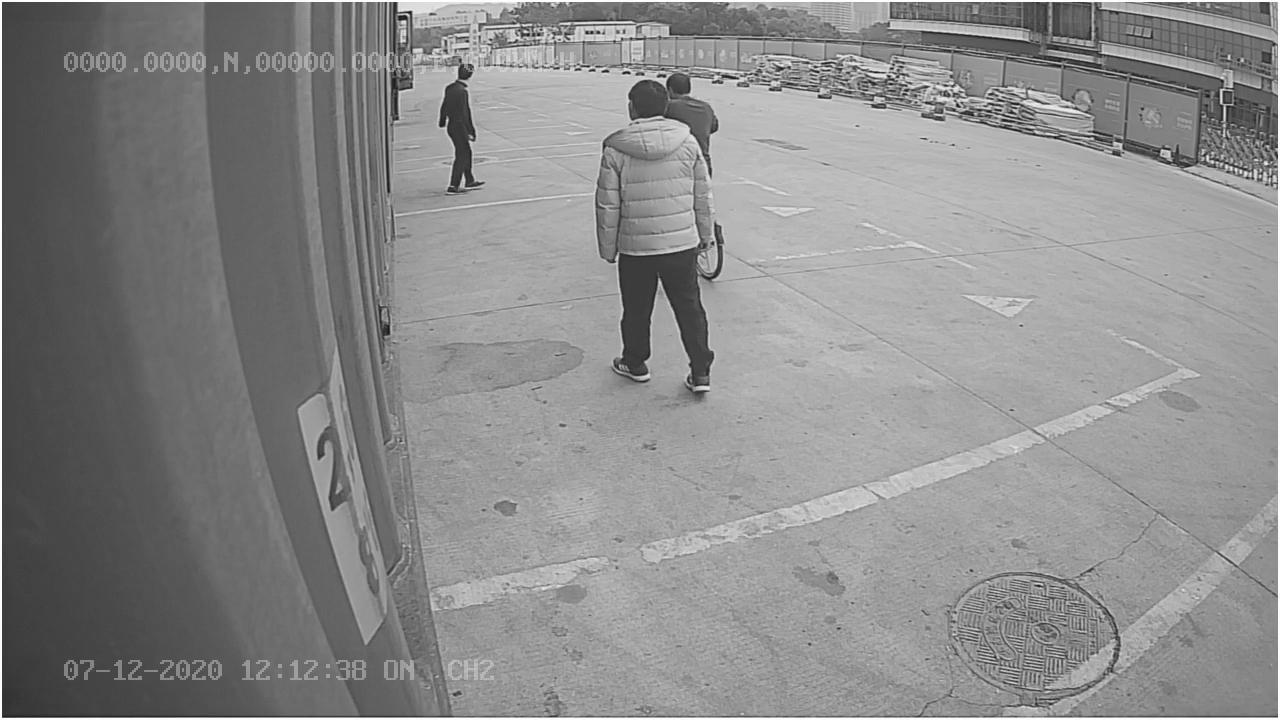person: (590, 73, 716, 400)
